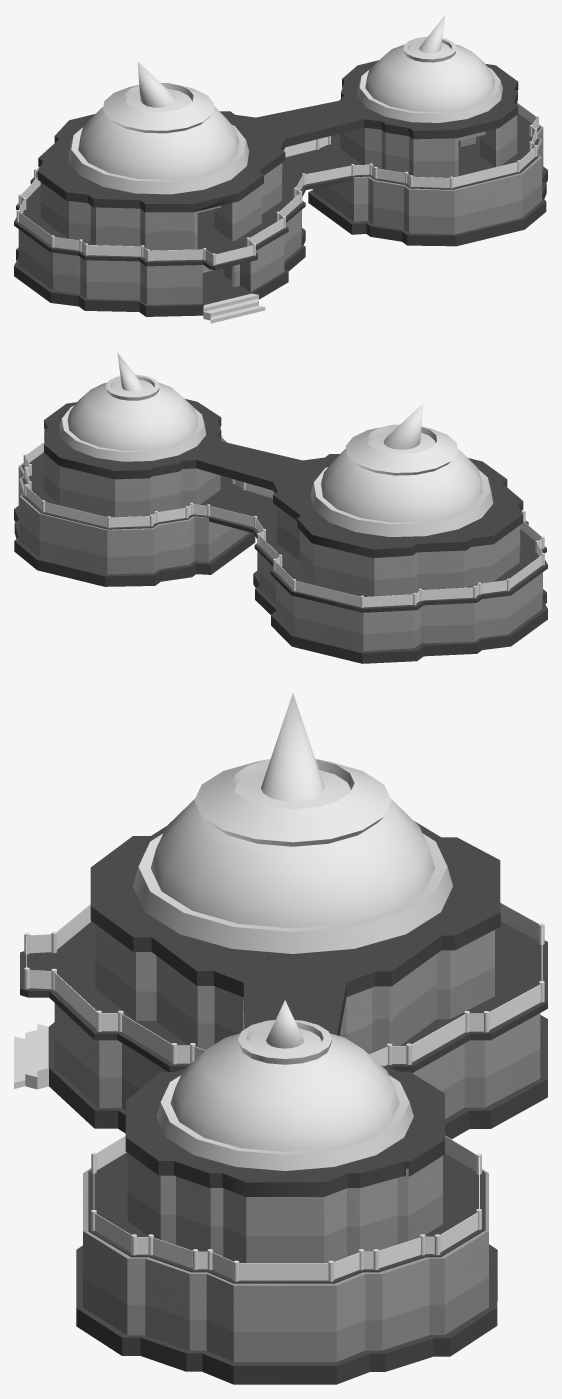
Rendered from Map_00.FBX.
The picture shows the model from 3 angles, top to bottom: view 1: azimuth 30°, elevation 25°; view 2: azimuth 150°, elevation 25°; view 3: azimuth 270°, elevation 25°; orthographic projection. The views are drawn at different scales.
Parts seen in each view (by area): view 1: Sphere001, Object006, Box017, Box015, Object002, Box016, Box118, Box018, Object007, Object008, Cylinder001, Box119; view 2: Sphere001, Object006, Box015, Box017, Box016, Object002, Box018, Box118, Object007, Object008, Cylinder001; view 3: Sphere001, Object006, Box017, Box018, Box016, Object002, Box118, Box015, Object008, Object007, Cylinder001, Box119.
Boxes of the visible parts, x1,y1,x2,y2 form: Sphere001: [68, 14, 502, 194]; Object006: [37, 60, 518, 212]; Box017: [313, 124, 543, 234]; Box015: [18, 210, 301, 304]; Object002: [14, 113, 540, 270]; Box016: [40, 163, 282, 250]; Box118: [19, 103, 537, 264]; Box018: [340, 102, 517, 177]; Object007: [14, 228, 305, 316]; Object008: [308, 167, 547, 246]; Cylinder001: [16, 116, 538, 265]; Box119: [203, 293, 265, 323]; Sphere001: [59, 352, 493, 536]; Object006: [44, 399, 523, 558]; Box015: [257, 551, 542, 651]; Box017: [18, 463, 249, 574]; Box016: [276, 506, 520, 596]; Object002: [21, 452, 547, 612]; Box018: [44, 426, 220, 517]; Box118: [25, 437, 542, 607]; Object007: [253, 571, 547, 663]; Object008: [14, 506, 255, 586]; Cylinder001: [23, 435, 544, 607]; Sphere001: [133, 693, 452, 1170]; Object006: [90, 821, 500, 1196]; Box017: [83, 1168, 488, 1362]; Box018: [127, 1153, 442, 1262]; Box016: [95, 924, 494, 1054]; Object002: [20, 921, 547, 1283]; Box118: [26, 902, 542, 1280]; Box015: [54, 1003, 540, 1118]; Object008: [76, 1244, 497, 1384]; Object007: [48, 1015, 547, 1139]; Cylinder001: [24, 923, 544, 1281]; Box119: [14, 1023, 48, 1089].
Size of the model in its own units: 830 by 322 by 439.
